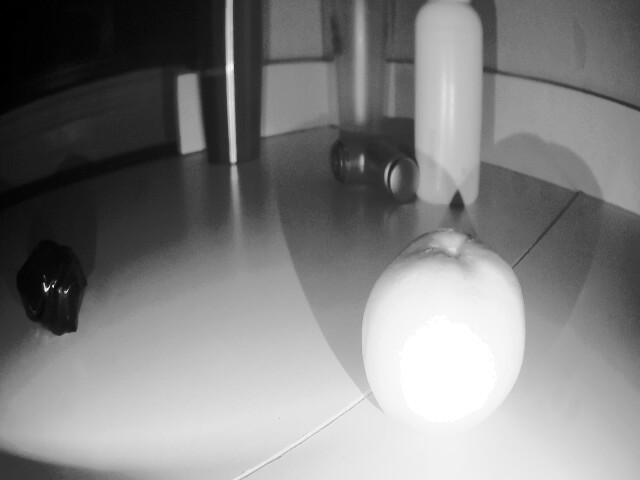black: (11, 239, 95, 346)
